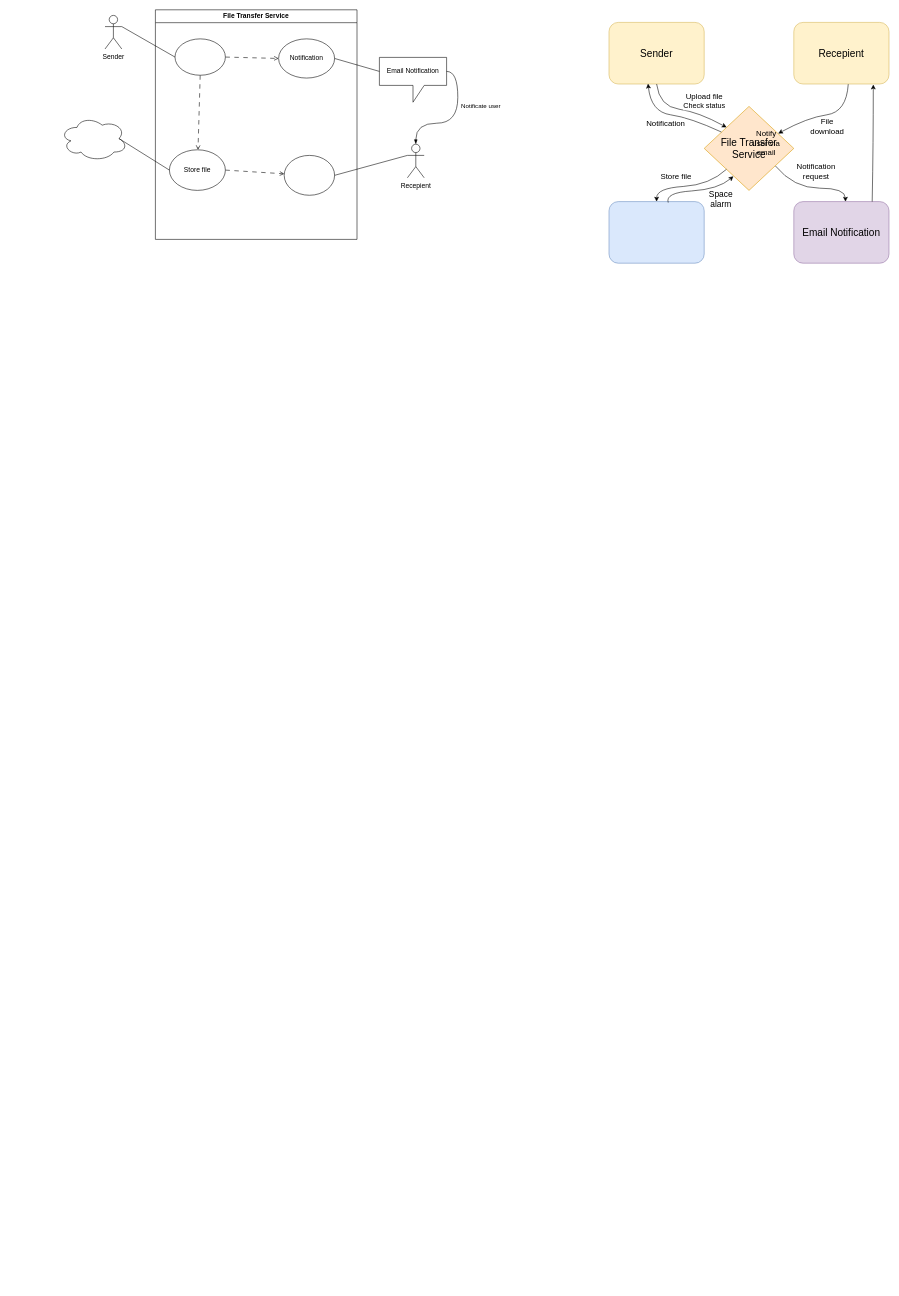
Image size: 899x1296. Some labels were removed from this diagram. The shapes that lost their labels are listed below. From the top down, each one's box as (x1, y1, x2, y2) in pixels, then its label:
(174, 38, 225, 75): Upload file
(60, 116, 127, 161): Cloud
(284, 155, 335, 195): Download file
(608, 201, 704, 263): Cloud(FileStorage)
